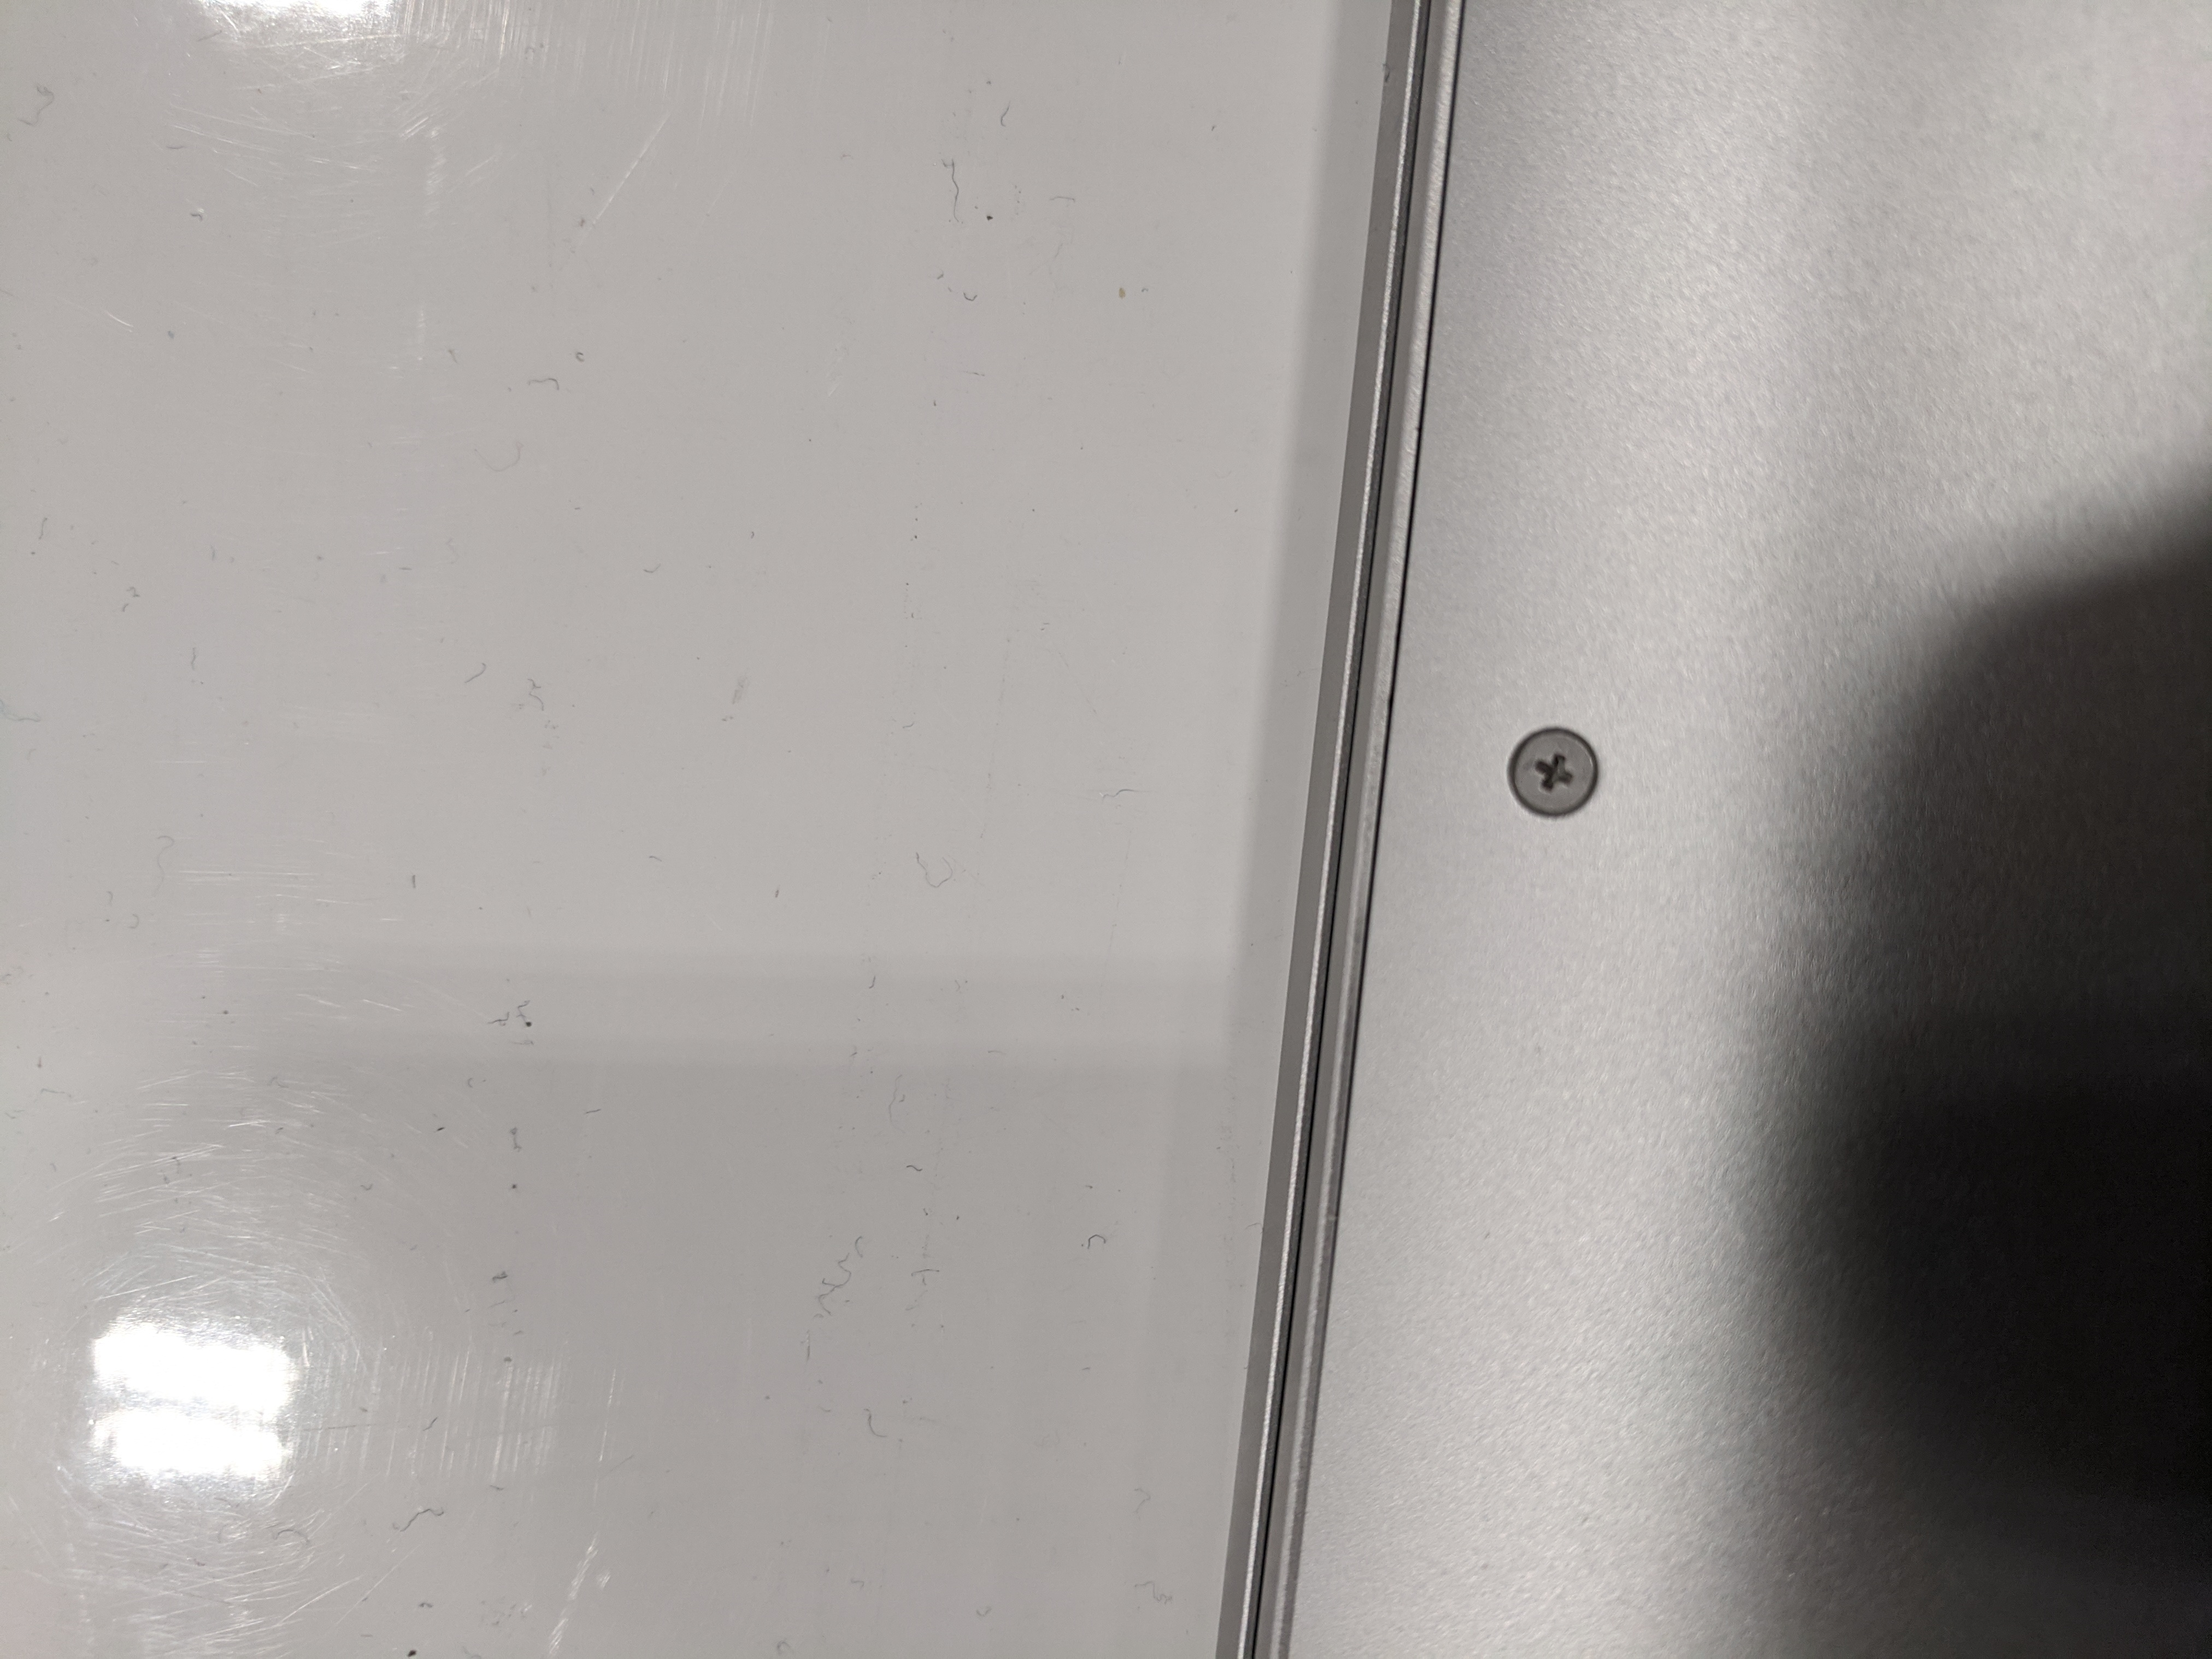cross_recessed_screw: (1493, 714, 1623, 826)
